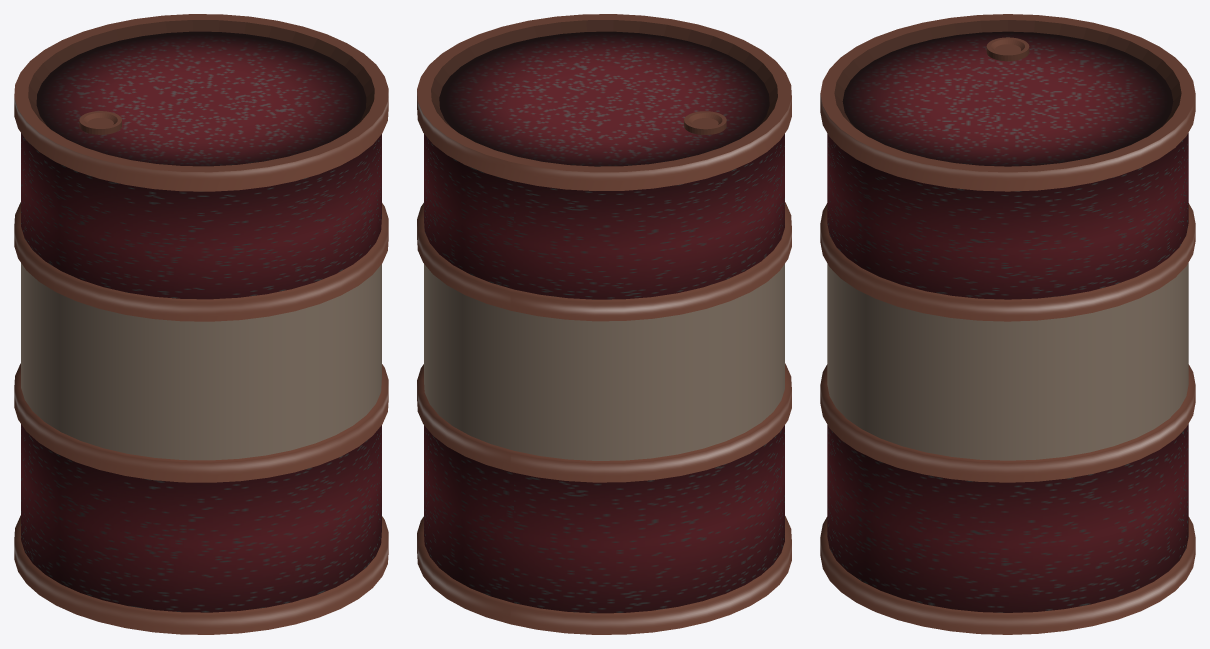
File: Barrel1.fbx
3 renders of one model, left to right at view 1: azimuth 30°, elevation 25°; view 2: azimuth 150°, elevation 25°; view 3: azimuth 270°, elevation 25°, orthographic.
Parts seen in each view (by area): view 1: body, top, center, cinta, tapon; view 2: body, top, center, cinta, tapon; view 3: body, top, center, cinta, tapon.
Part boxes in pixels (<box>): body: <box>21,133,381,612</box>; top: <box>14,14,388,191</box>; center: <box>21,263,381,460</box>; cinta: <box>14,202,388,634</box>; tapon: <box>79,111,121,134</box>; body: <box>424,134,784,613</box>; top: <box>417,14,791,190</box>; center: <box>424,264,784,460</box>; cinta: <box>417,202,791,634</box>; tapon: <box>684,111,726,134</box>; body: <box>827,133,1188,612</box>; top: <box>820,14,1195,191</box>; center: <box>827,263,1188,460</box>; cinta: <box>820,203,1195,634</box>; tapon: <box>986,37,1029,61</box>.
Bounding box in the file's own units: 72.44 × 98.66 × 72.44.
